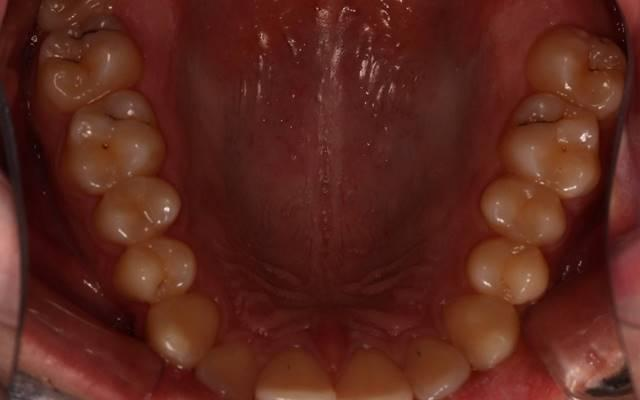LL1BC_healthy: (469, 233, 545, 302)
LL1M_decay: (505, 89, 601, 194)
LL2BC_healthy: (479, 174, 573, 248)
LL2M_decay: (525, 21, 629, 115)
LLCI_healthy: (336, 346, 413, 400)
LLC_healthy: (444, 293, 517, 367)
LLLI_decay: (405, 336, 471, 400)
LR1BC_decay: (115, 238, 196, 303)
LR1M_decay: (68, 90, 167, 194)
LR2BC_healthy: (95, 177, 182, 239)
LR2M_decay: (38, 5, 134, 118)
LRCI_healthy: (258, 347, 335, 400)
LRC_healthy: (143, 295, 221, 370)
LRLI_healthy: (197, 345, 259, 396)
